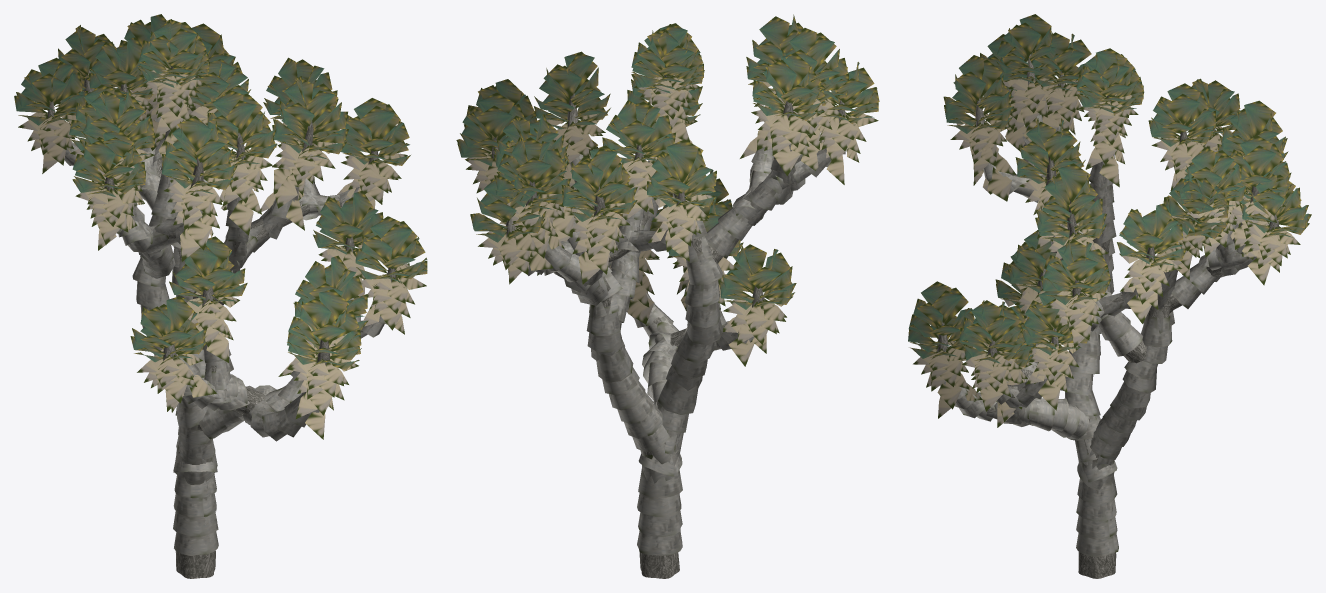
3 views of the same model, side by side, from view 1: azimuth 30°, elevation 25°; view 2: azimuth 150°, elevation 25°; view 3: azimuth 270°, elevation 25° (orthographic). The views are drawn at different scales.
Visible parts, largest first — view 1: jt7; view 2: jt7; view 3: jt7.
Part boxes in pixels (<box>): jt7: <box>14,14,427,578</box>; jt7: <box>456,14,879,578</box>; jt7: <box>908,14,1311,578</box>.
Bounding box in the file's own units: 3.83 × 5.51 × 3.92.
